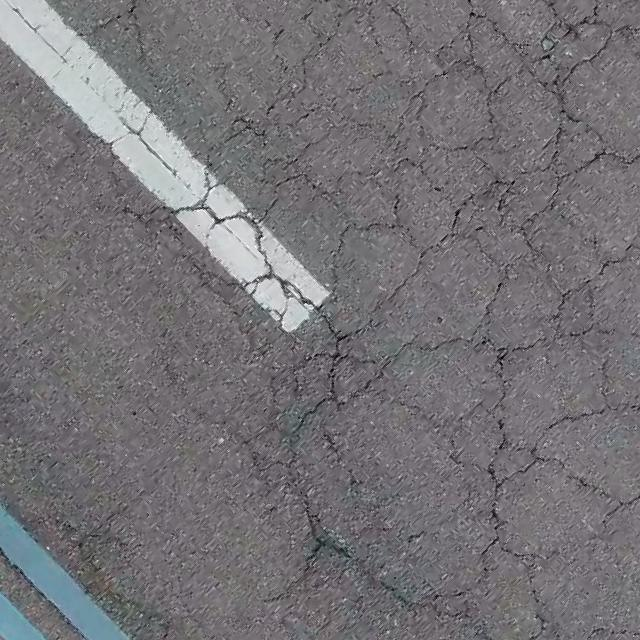PIEL DE COCODRILO: (19, 0, 639, 639)
